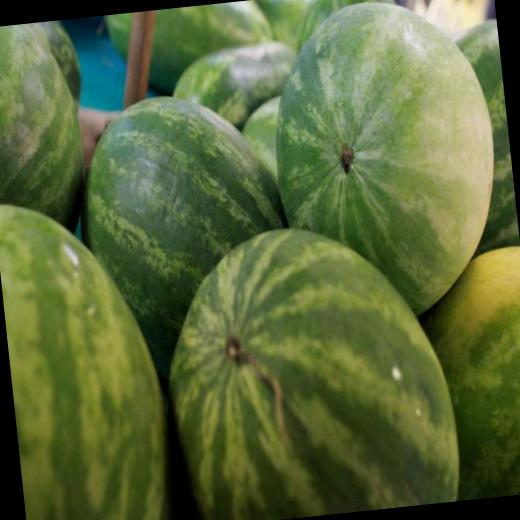Cherry: (0, 0, 520, 520), (70, 80, 294, 346)
